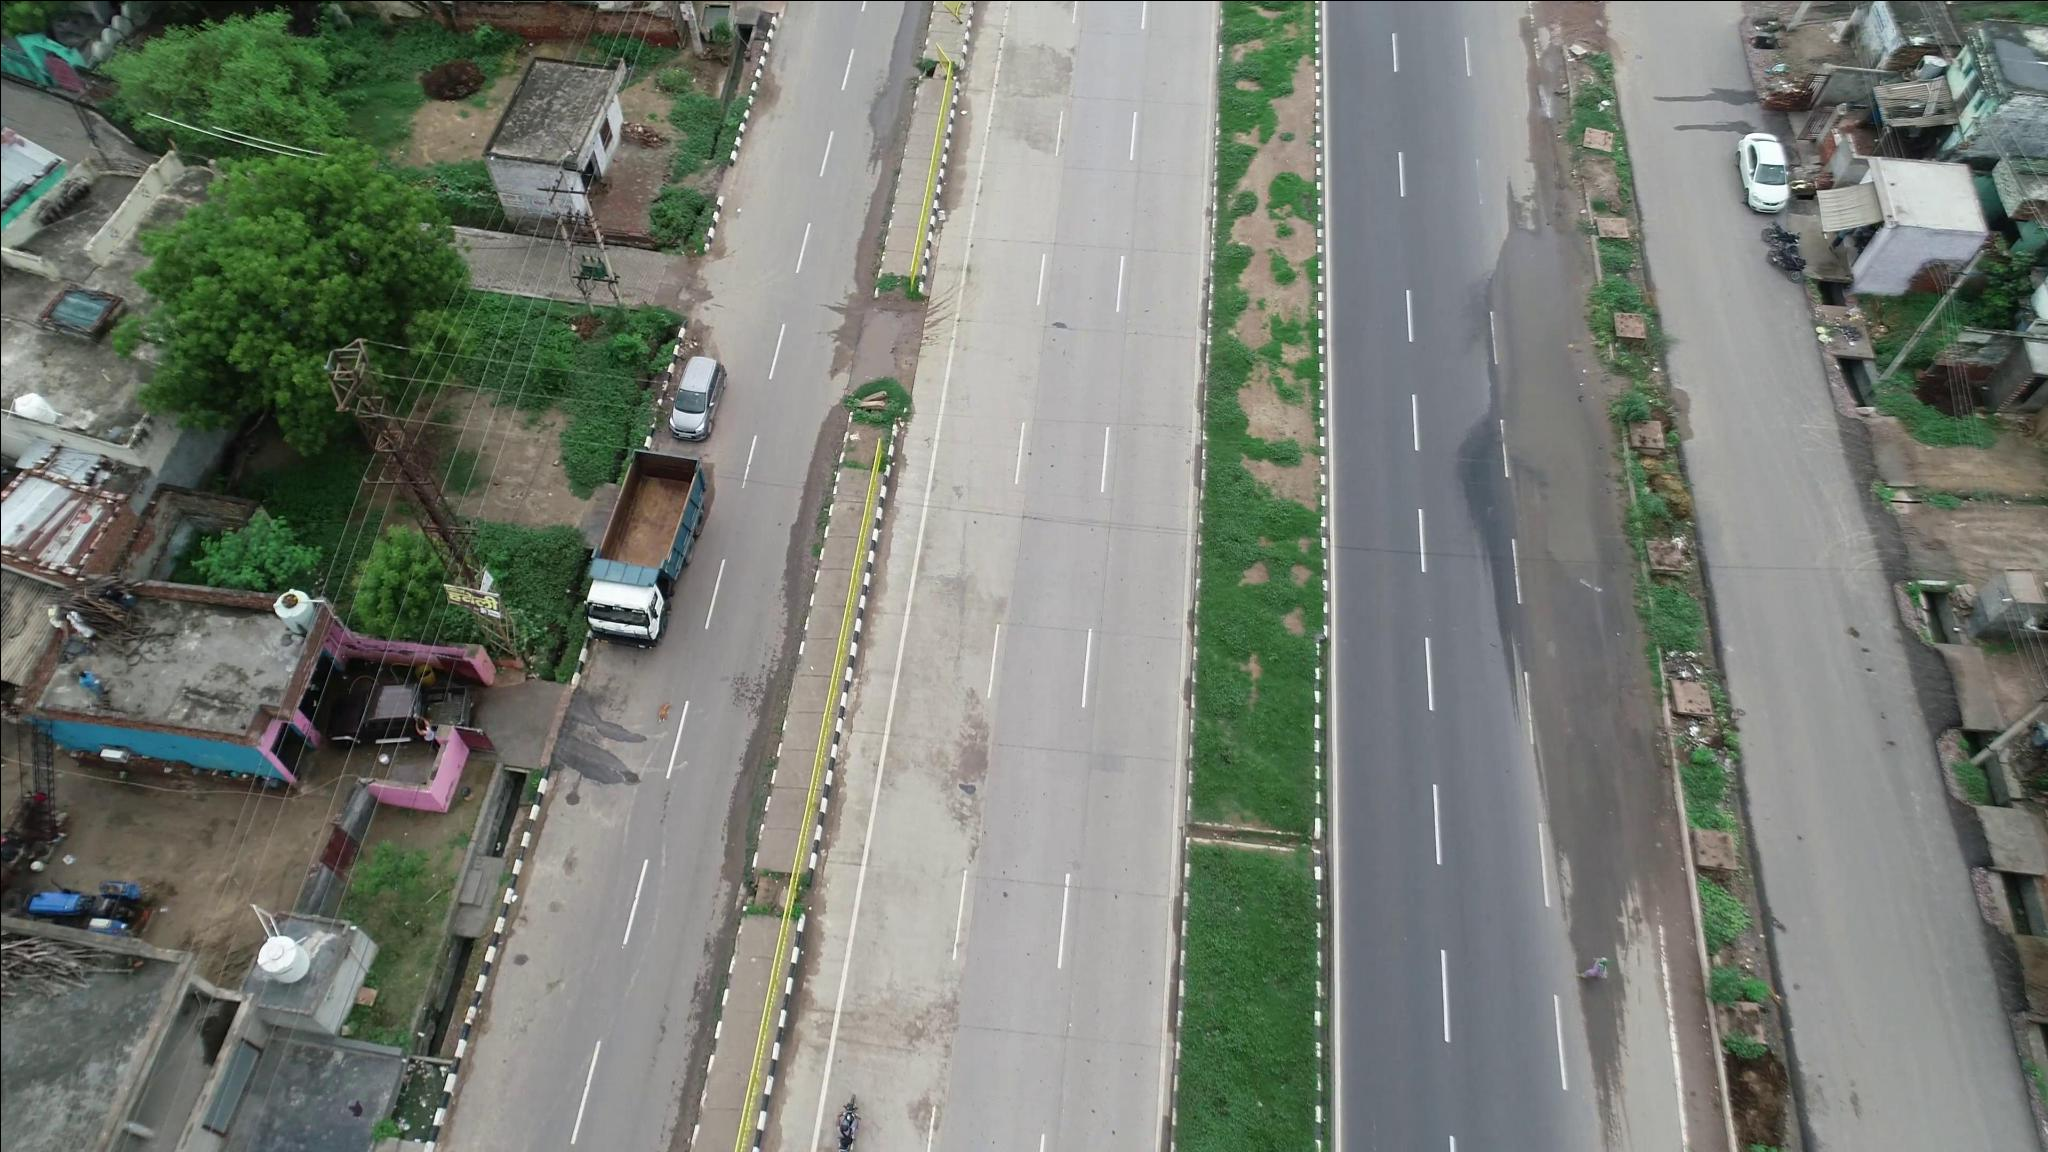Waterlogging: (1464, 191, 1599, 599)
